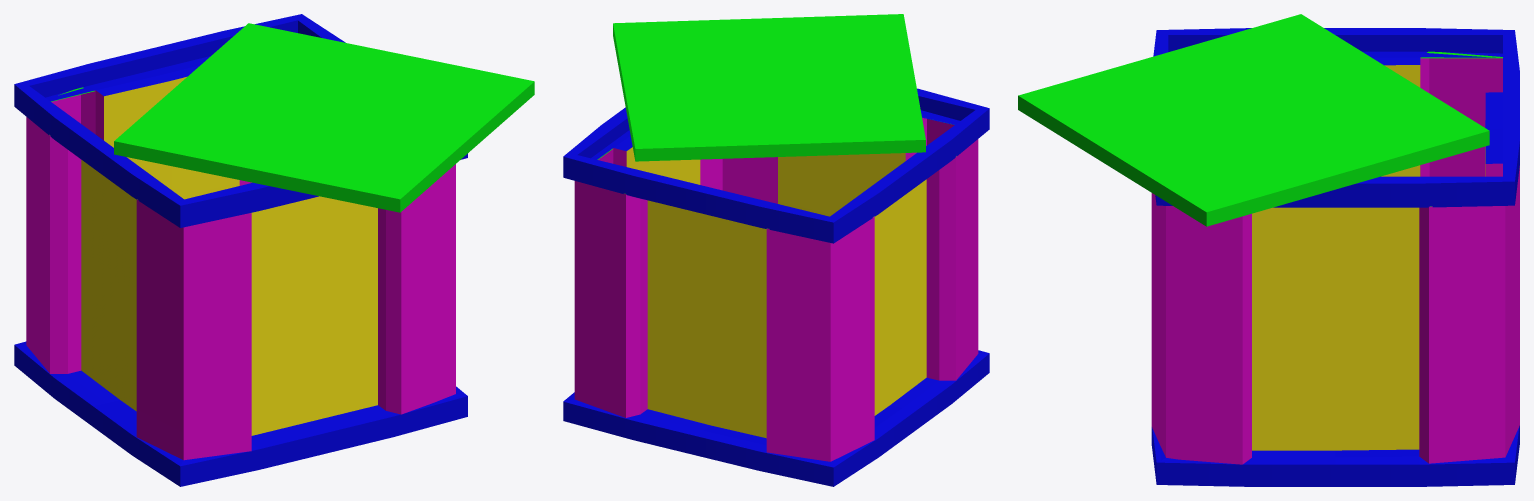
File: FYP_Crate_Open_Re-UVUnwrap.FBX
3 renders of one model, left to right at view 1: azimuth 30°, elevation 25°; view 2: azimuth 150°, elevation 25°; view 3: azimuth 270°, elevation 25°, orthographic. The views are drawn at different scales.
Visible parts, largest first — view 1: Box003; view 2: Box003; view 3: Box003.
Boxes of the visible parts, bbox=[...] form: Box003: bbox=[14, 14, 534, 486]; Box003: bbox=[563, 14, 989, 486]; Box003: bbox=[1018, 14, 1519, 486].
Size of the model in its own units: 55.91 by 41.52 by 59.01.
